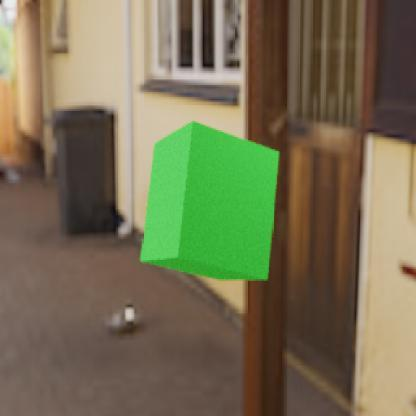cube: (139, 120, 278, 280)
